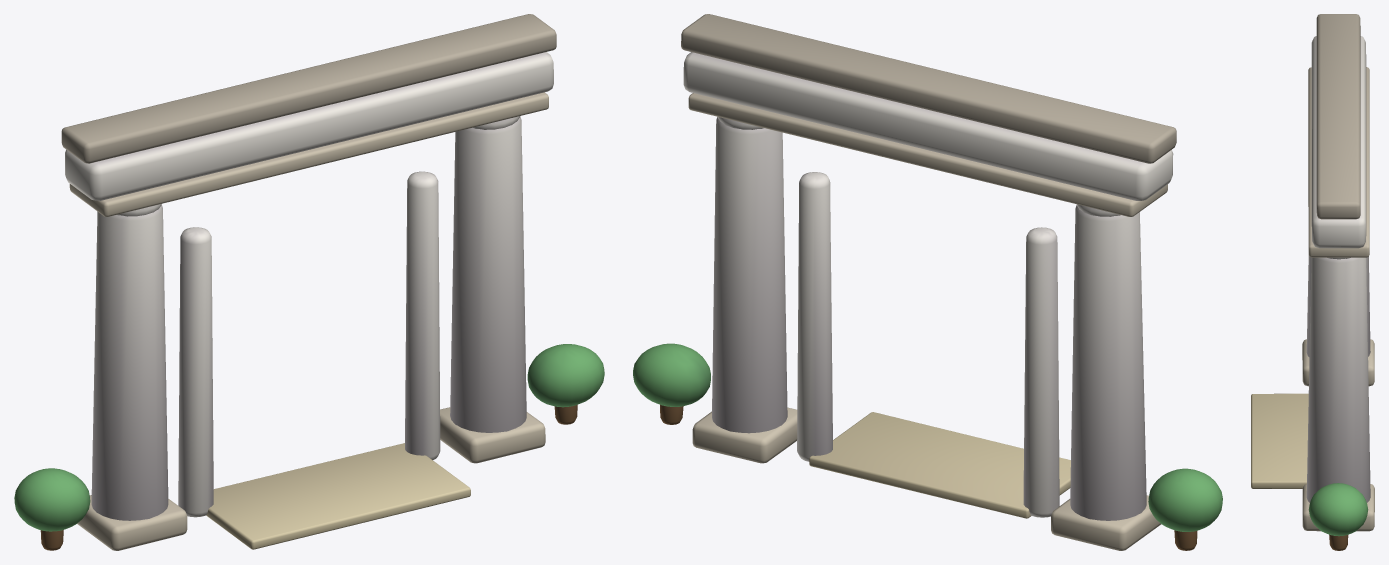
The picture shows the model from 3 angles, left to right: view 1: azimuth 30°, elevation 25°; view 2: azimuth 150°, elevation 25°; view 3: azimuth 270°, elevation 25°; orthographic projection. The views are drawn at different scales.
Parts seen in each view (by area): view 1: gate_a02ab0b0; view 2: gate_a02ab0b0; view 3: gate_a02ab0b0.
Boxes of the visible parts, x1,y1,x2,y2 form: gate_a02ab0b0: [14, 14, 604, 550]; gate_a02ab0b0: [633, 14, 1222, 550]; gate_a02ab0b0: [1251, 14, 1374, 550].
Size of the model in its own units: 6.36 by 4.26 by 1.42.
